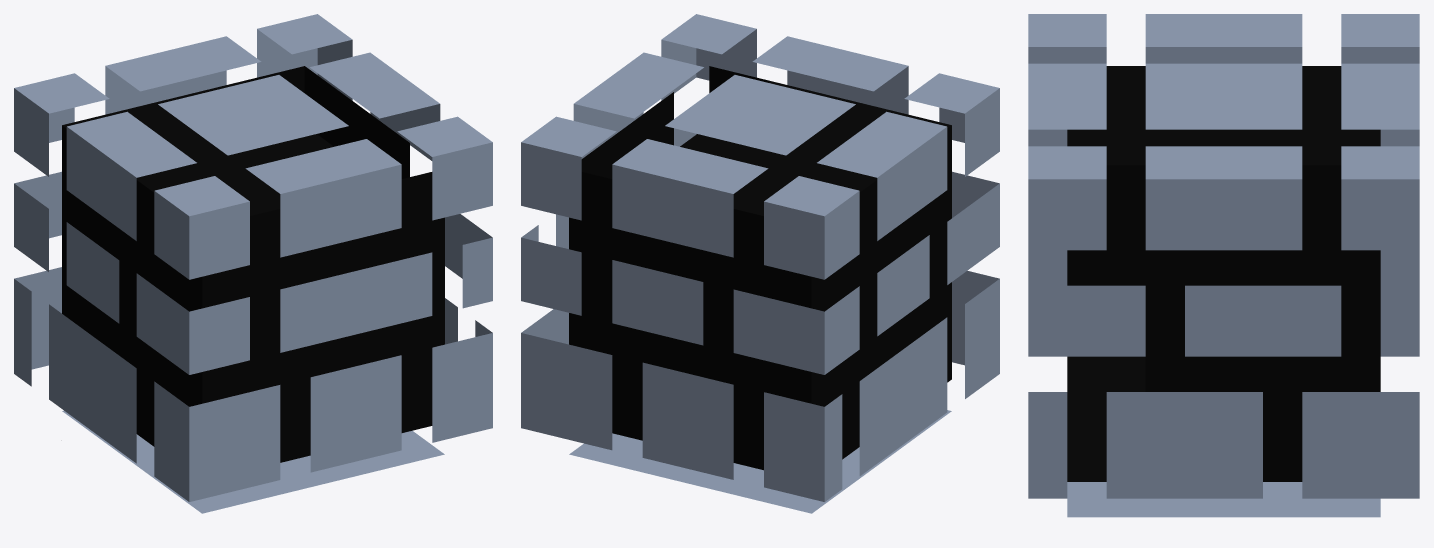
The model's file is fried-dungeons.gltf.
The picture shows the model from 3 angles, left to right: view 1: azimuth 30°, elevation 25°; view 2: azimuth 150°, elevation 25°; view 3: azimuth 270°, elevation 25°; orthographic projection. The views are drawn at different scales.
Visible parts, largest first — view 1: Brick3; view 2: Brick3; view 3: Brick3.
Boxes of the visible parts, x1=… form: Brick3: x1=14, y1=14, x2=492, y2=513; Brick3: x1=521, y1=14, x2=999, y2=513; Brick3: x1=1028, y1=14, x2=1419, y2=517.
Bounding box in the file's own units: 1 × 1 × 1.
1 material, 1 textured.
